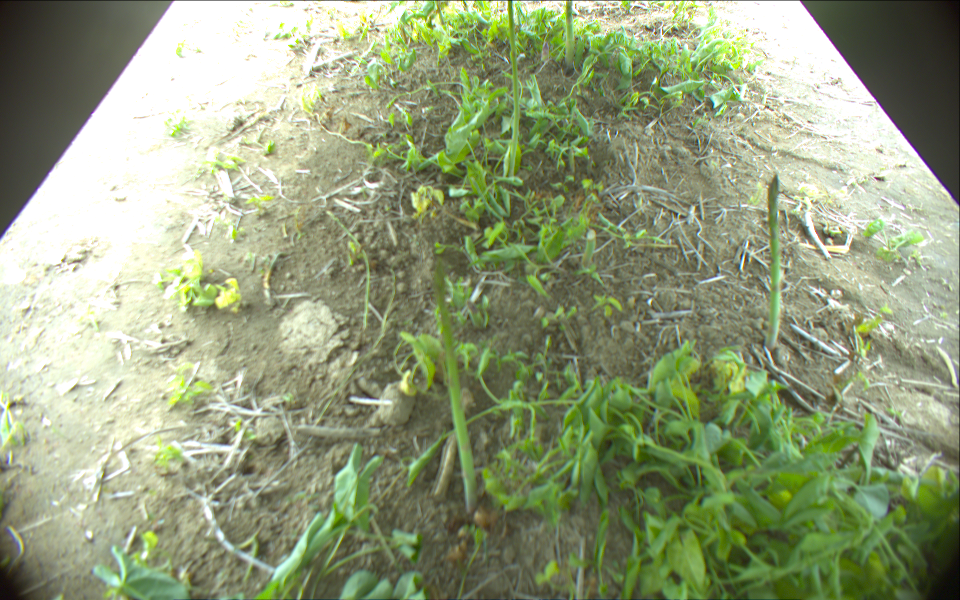aspa: (430, 260, 480, 514), (504, 1, 521, 175), (766, 171, 781, 347), (565, 1, 576, 63), (581, 228, 597, 266)
